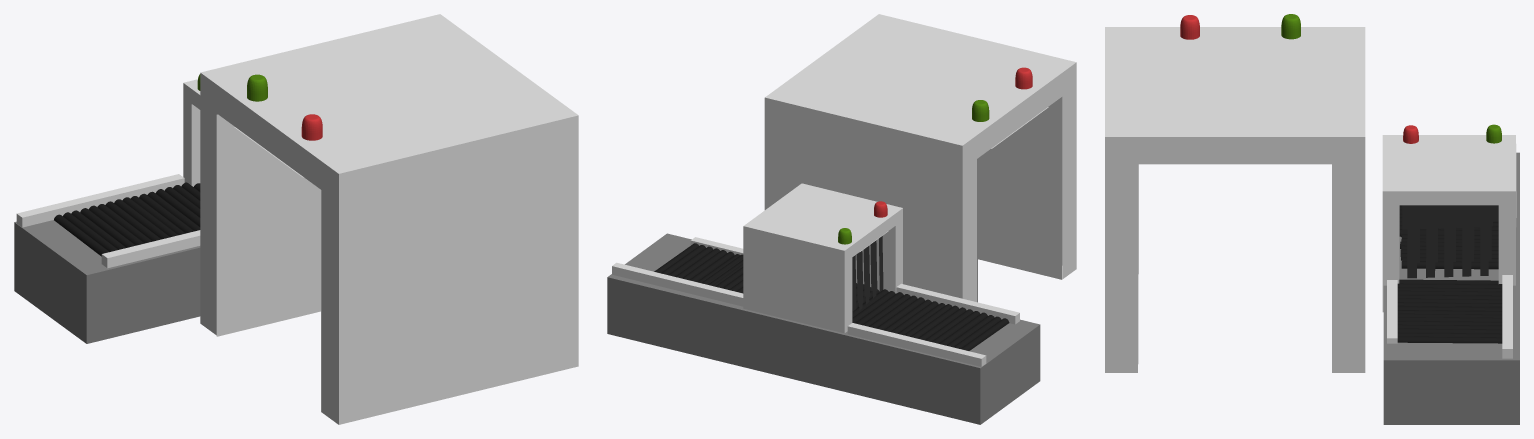
File: cintaescaner.fbx
The picture shows the model from 3 angles, left to right: view 1: azimuth 30°, elevation 25°; view 2: azimuth 150°, elevation 25°; view 3: azimuth 270°, elevation 25°; orthographic projection. The views are drawn at different scales.
Visible parts, largest first — view 1: Cube, Cubo, Cubo.001, Cube.001, Cubo.003, Cilindro.006, Cilindro.003, Cilindro.002; view 2: Cube, Cubo, Cube.001, Cubo.001, Cubo.002, Cubo.003, Plano.001; view 3: Cube, Cubo, Cube.001, Plano.002, Plano, Cubo.002, Cilindro.046, Cubo.004, Plano.004, Cilindro.036, Cilindro.048, Cilindro.043 (+15 smaller).
Part boxes in pixels (x1,y1,x2,y2): Cube: [200, 14, 578, 424]; Cubo: [14, 220, 200, 343]; Cubo.001: [16, 174, 184, 227]; Cube.001: [183, 79, 200, 186]; Cubo.003: [101, 230, 200, 268]; Cilindro.006: [54, 214, 109, 256]; Cilindro.003: [247, 74, 267, 101]; Cilindro.002: [301, 114, 322, 140]; Cube: [764, 14, 1076, 302]; Cubo: [607, 233, 1040, 424]; Cube.001: [743, 183, 902, 333]; Cubo.001: [847, 323, 986, 366]; Cubo.002: [612, 262, 743, 306]; Cubo.003: [896, 283, 1019, 324]; Plano.001: [858, 236, 883, 310]; Cube: [1105, 27, 1365, 372]; Cubo: [1383, 152, 1519, 424]; Cube.001: [1382, 135, 1515, 312]; Plano.002: [1407, 205, 1488, 278]; Plano: [1417, 205, 1491, 262]; Cubo.002: [1502, 275, 1512, 358]; Cilindro.046: [1397, 336, 1502, 343]; Cubo.004: [1387, 280, 1397, 343]; Plano.004: [1421, 205, 1498, 223]; Cilindro.036: [1397, 290, 1502, 295]; Cilindro.048: [1397, 328, 1502, 333]; Cilindro.043: [1397, 317, 1502, 321].
Bounding box in the file's own units: 377 × 218 × 319.
